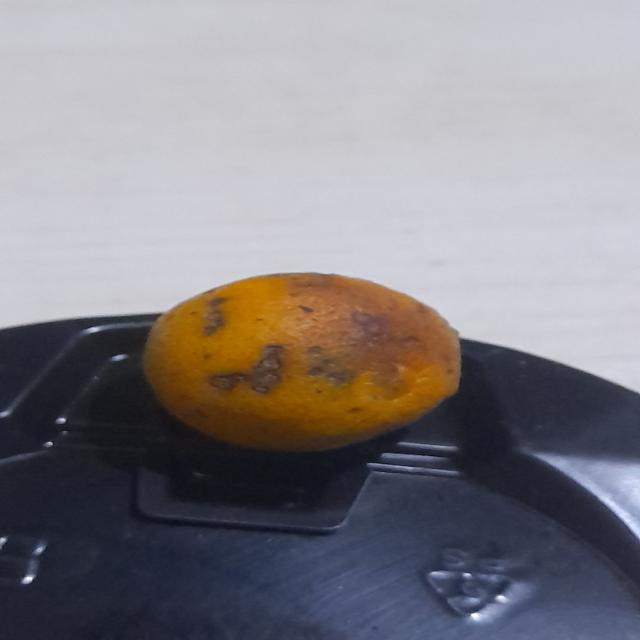black spot: (141, 270, 465, 448)
